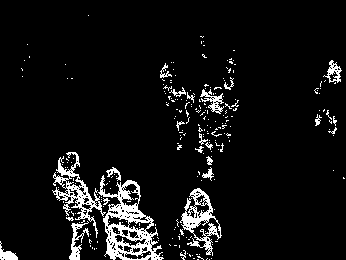person: (51, 149, 98, 260), (102, 180, 165, 260), (171, 185, 222, 258), (197, 81, 231, 184)
